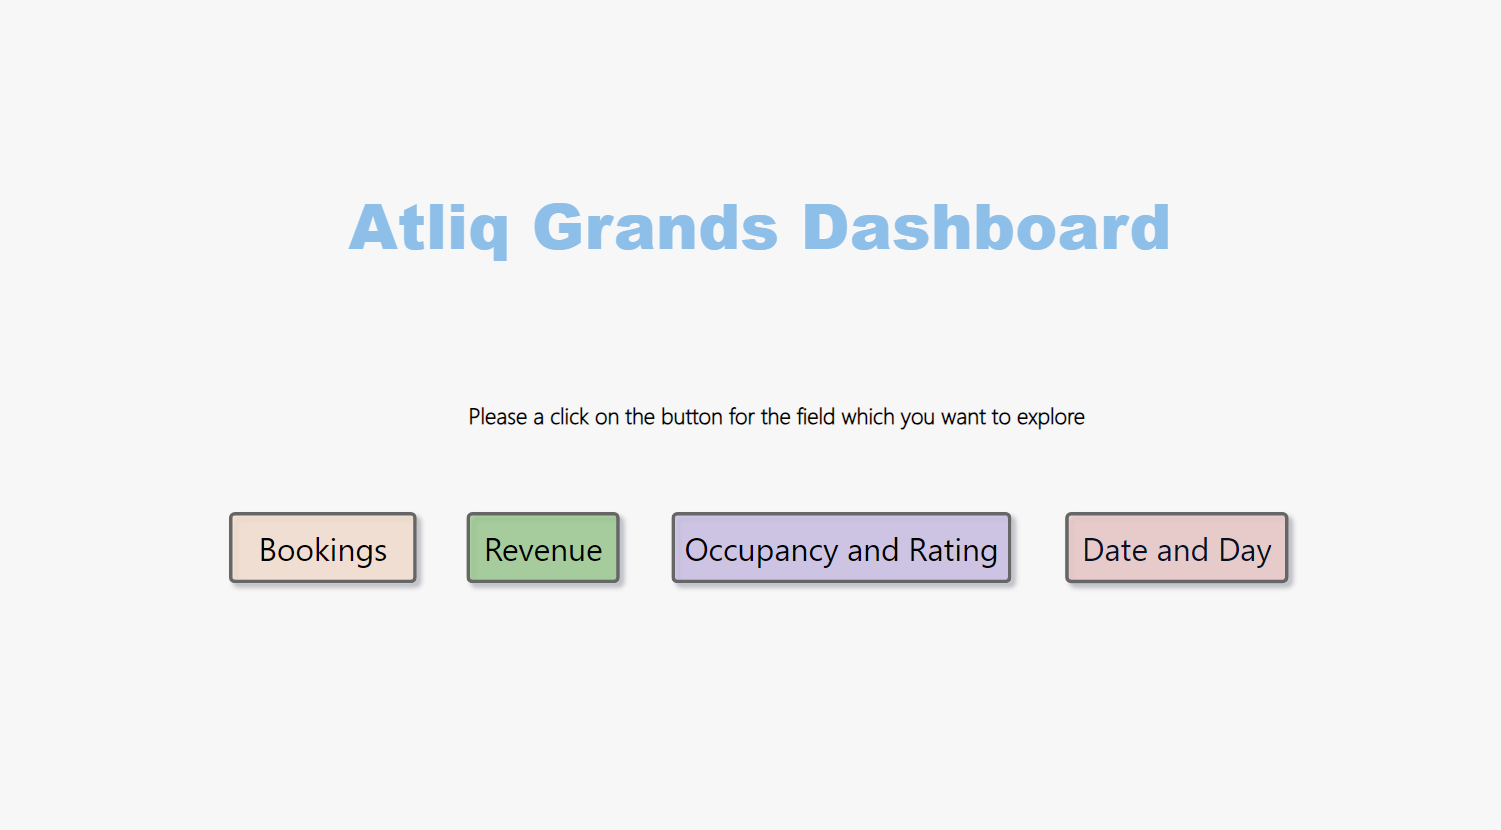

This screenshot's page, from the dashboard's own definition file:
{"tool":"powerbi","page":{"name":"Home Page","canvas":[1280,720],"ordinal":0},"visuals":[{"type":"actionButton","box":[190,426,176,78],"z":0},{"type":"actionButton","box":[390,426,147,78],"z":1000},{"type":"actionButton","box":[563,426,304,78],"z":2000},{"type":"textbox","box":[208,150,876,100],"z":3000},{"type":"textbox","box":[349,336,622,46],"z":4000},{"type":"actionButton","box":[893.4,425.7,205.8,78],"z":5000}]}

Visuals, with their boxes in screenshot pixels (x1, y1, x2, y2), scaled from the page's 1280x720 canvas onto the 1501x830 screenshot:
actionButton: 223, 491, 429, 581
actionButton: 457, 491, 630, 581
actionButton: 660, 491, 1017, 581
textbox: 244, 173, 1271, 288
textbox: 409, 387, 1139, 440
actionButton: 1048, 491, 1289, 581
